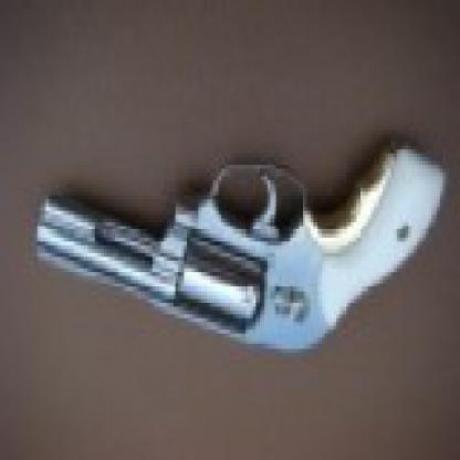weapon: (20, 138, 450, 358)
